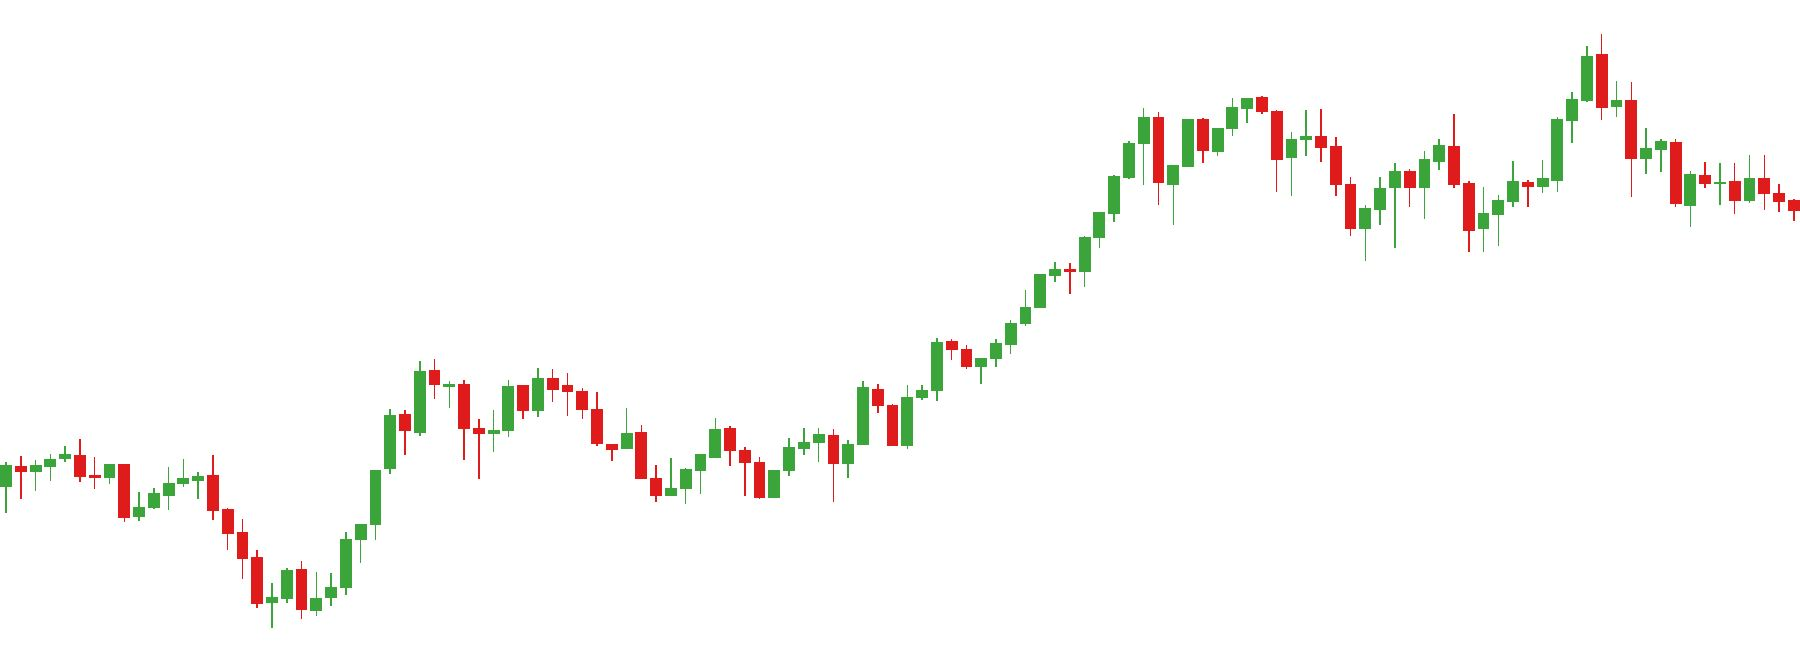buy: (1165, 129, 1373, 261)
